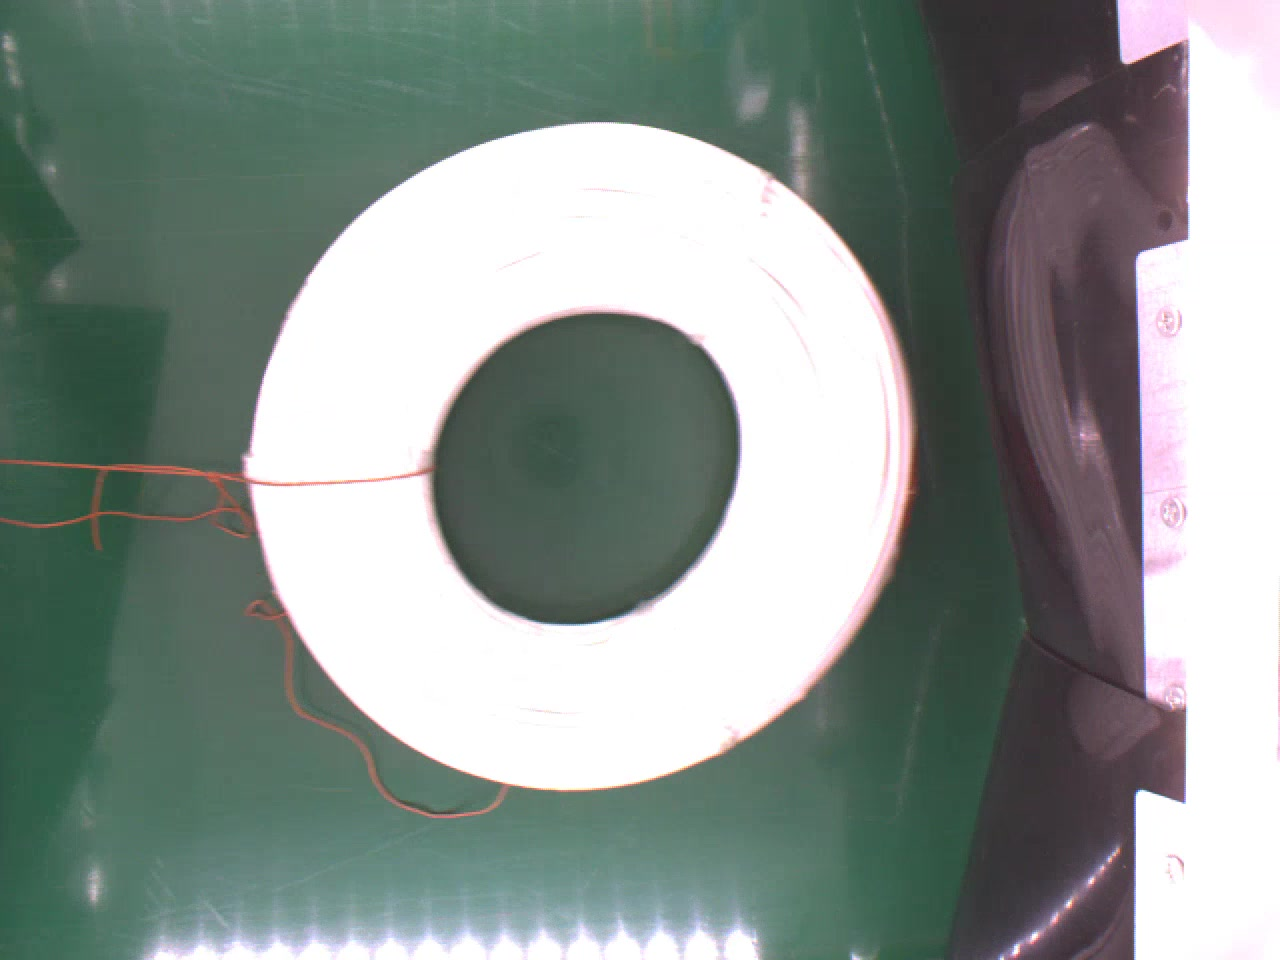white: (237, 118, 919, 782)
